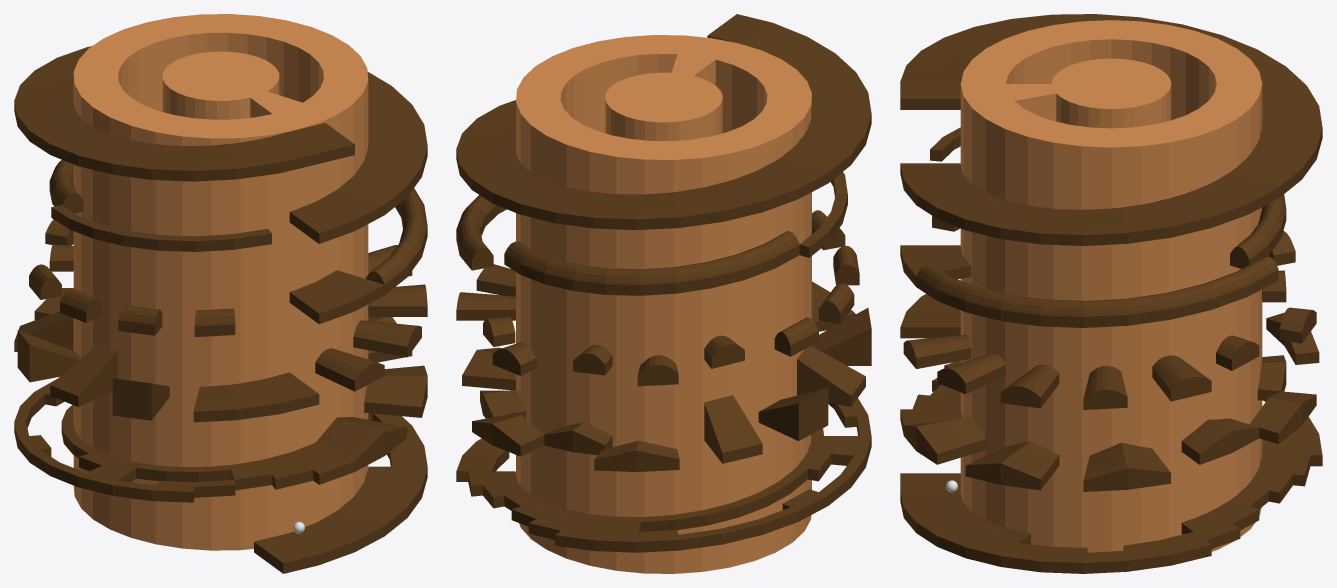
File: TheTower.fbx
3 renders of one model, left to right at view 1: azimuth 30°, elevation 25°; view 2: azimuth 150°, elevation 25°; view 3: azimuth 270°, elevation 25°, orthographic. The views are drawn at different scales.
Visible parts, largest first — view 1: Cylinder, Cube.004, Cube, Cube.001, Cube.003, Cube.002; view 2: Cylinder, Cube.004, Cube.001, Cube, Cube.002, Cube.003; view 3: Cylinder, Cube.004, Cube.001, Cube, Cube.002, Cube.003.
Boxes of the visible parts, <box> form: Cylinder: <box>73,14,368,550</box>; Cube.004: <box>14,46,427,243</box>; Cube: <box>14,379,427,573</box>; Cube.001: <box>14,288,427,484</box>; Cube.003: <box>29,219,427,391</box>; Cube.002: <box>49,160,427,324</box>; Cylinder: <box>516,35,811,573</box>; Cube.004: <box>456,14,871,230</box>; Cube.001: <box>462,281,871,471</box>; Cube: <box>456,398,871,552</box>; Cube.002: <box>456,172,847,295</box>; Cube.003: <box>456,210,859,386</box>; Cylinder: <box>960,20,1262,552</box>; Cube.004: <box>900,14,1322,245</box>; Cube.001: <box>900,294,1319,491</box>; Cube: <box>900,361,1322,573</box>; Cube.002: <box>900,127,1286,327</box>; Cube.003: <box>903,216,1316,409</box>.
Bounding box in the file's own units: 6983 × 7700 × 7000.
